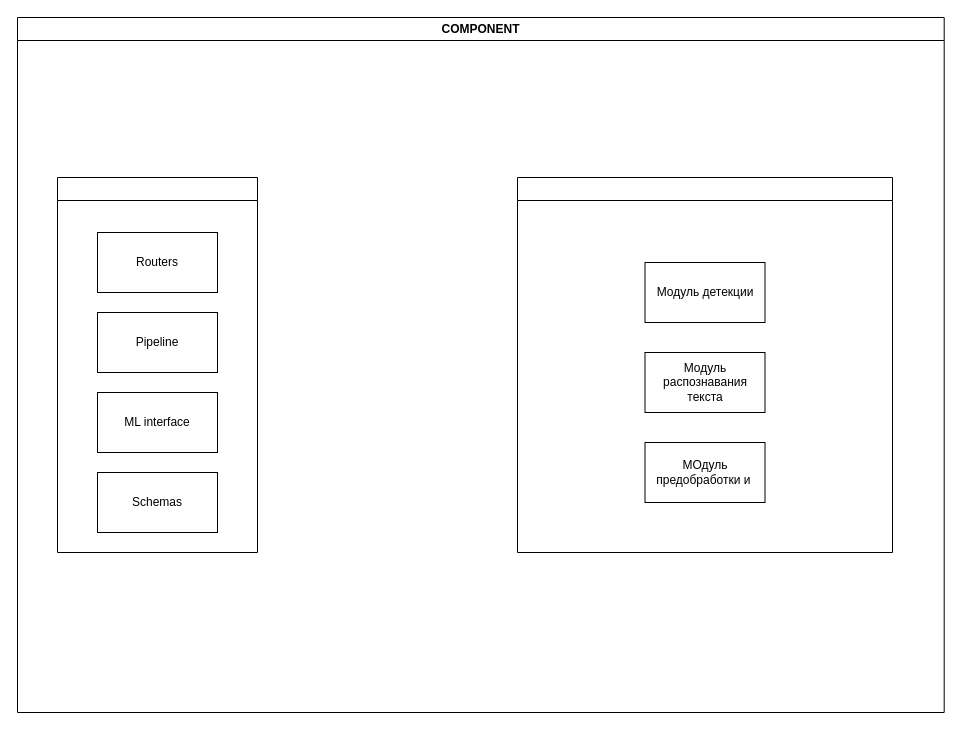
Some shapes in this 962 by 730 pixel diagram are drawn without their labels. The shapes that lost their labels are listed below. From the top down, each one's box as (x1, y1, x2, y2) in pixels, then its label:
(56, 176, 258, 552): FASTAPI
(516, 176, 892, 552): OCR
